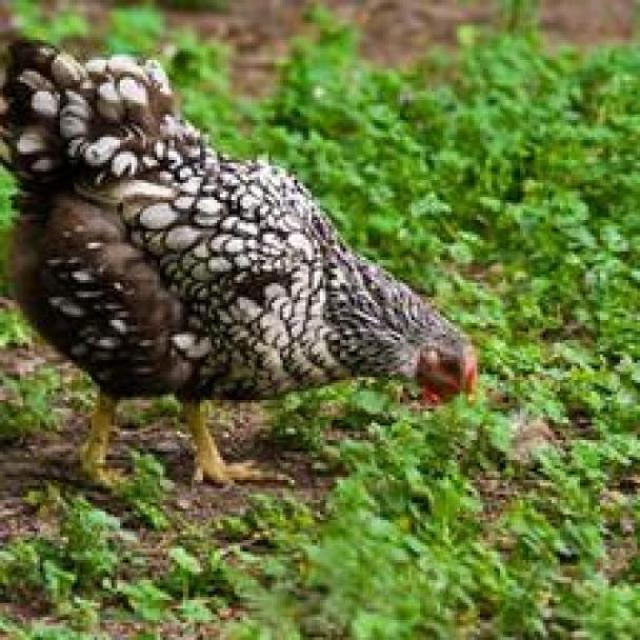Chicken: (7, 27, 496, 496)
